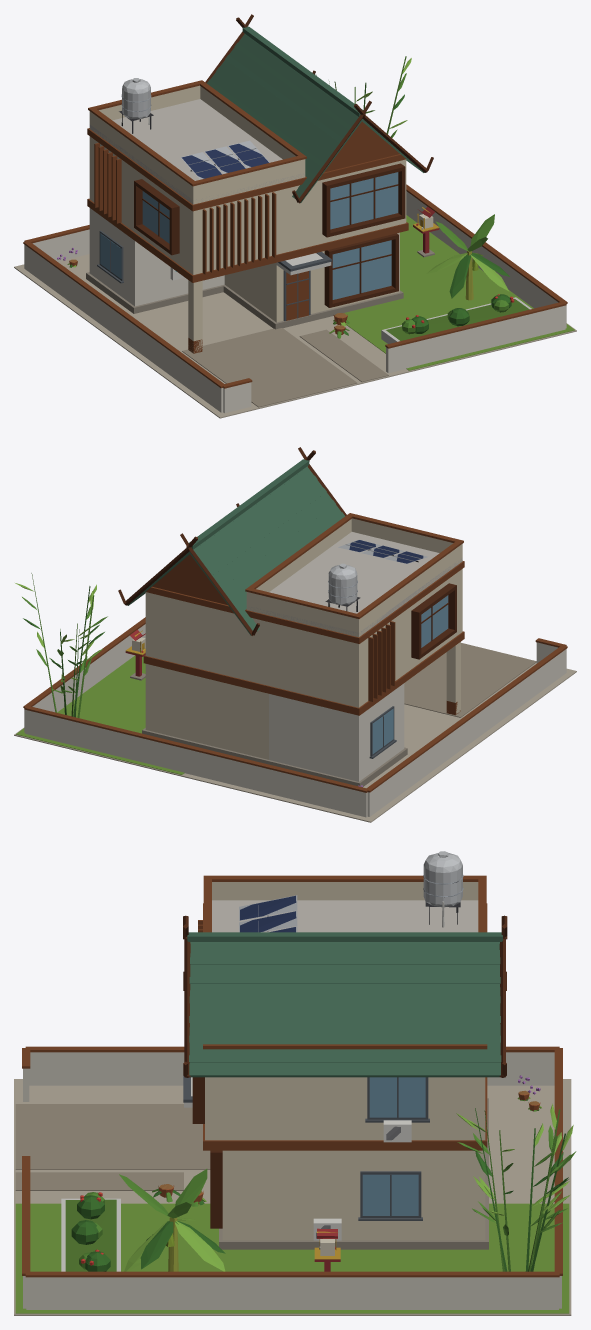
File: home_1.glb
The picture shows the model from 3 angles, top to bottom: view 1: azimuth 30°, elevation 25°; view 2: azimuth 150°, elevation 25°; view 3: azimuth 270°, elevation 25°; orthographic projection. The views are drawn at different scales.
Parts seen in each view (by area): view 1: body; view 2: body; view 3: body.
Part boxes in pixels (x1,y1,x2,y2): body: (14,14,576,418); body: (14,447,576,822); body: (14,851,576,1315).
Size of the model in its own units: 16.82 by 9.67 by 16.07.
